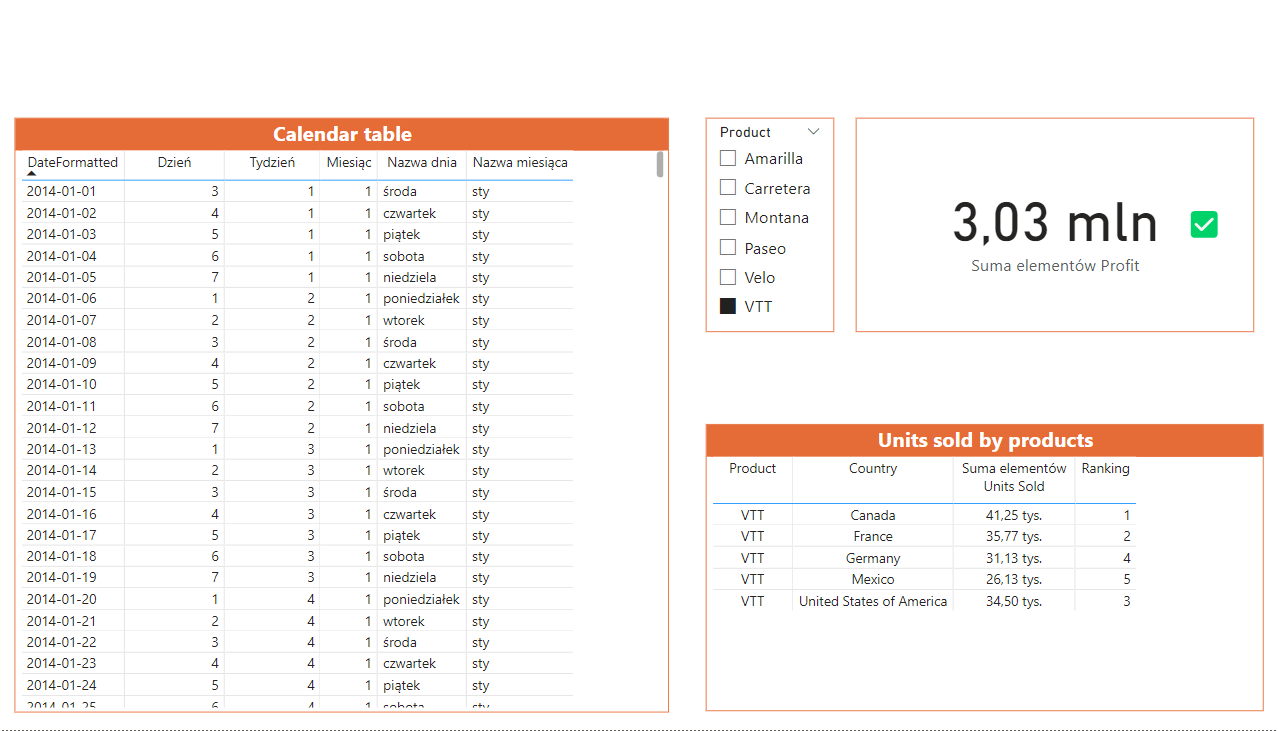

Layout of this report page (visuals, bound fields, positions):
{"tool":"powerbi","page":{"name":"Interm v2","canvas":[1280,720],"ordinal":2},"visuals":[{"type":"card","fields":{"Values":["Sum(financials.Profit)"]},"box":[859.7,120.8,389.4,209.7],"z":3000},{"type":"slicer","fields":{"Values":["financials.Product"]},"box":[712.6,121,125.4,209.5],"z":4000},{"type":"card","fields":{"Values":["financials.ProfitIkona"]},"box":[1175.8,202.1,48.7,47.2],"z":5000},{"type":"tableEx","title":"Calendar table","fields":{"Values":["Tabela dat.DateFormatted","Sum(Tabela dat.DayOfWeek)","Sum(Tabela dat.WeekNumber)","Sum(Tabela dat.MonthNumber)","Tabela dat.DayOfWeekFullName","Tabela dat.MonthShortName"]},"box":[36.9,121,640.3,581.3],"z":6000},{"type":"tableEx","title":"Units sold by products","fields":{"Values":["financials.Product","financials.Country","Sum(financials.Units Sold)","financials.Ranking"]},"box":[712.9,420.9,545.7,281.1],"z":7000}]}

Visuals, with their boxes in screenshot pixels (x1, y1, x2, y2), scaled from the page's 1280x720 canvas onto the 1278x731 screenshot:
card - Sum(financials.Profit): bbox(858, 123, 1247, 336)
slicer - financials.Product: bbox(711, 123, 837, 336)
card - financials.ProfitIkona: bbox(1174, 205, 1223, 253)
"Calendar table" tableEx: bbox(37, 123, 676, 713)
"Units sold by products" tableEx: bbox(712, 427, 1257, 713)
